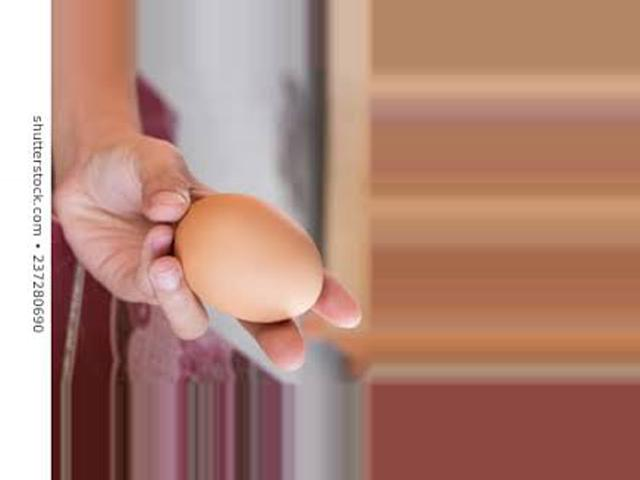egg: (174, 195, 321, 324)
